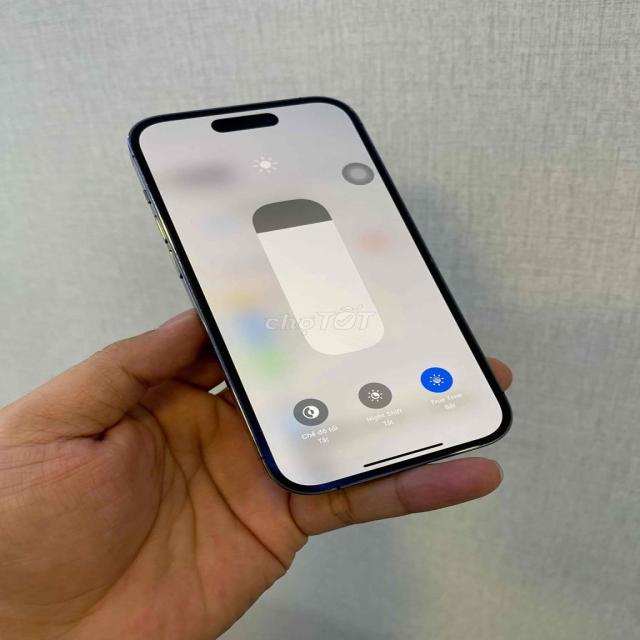gen_14: (118, 93, 518, 493)
